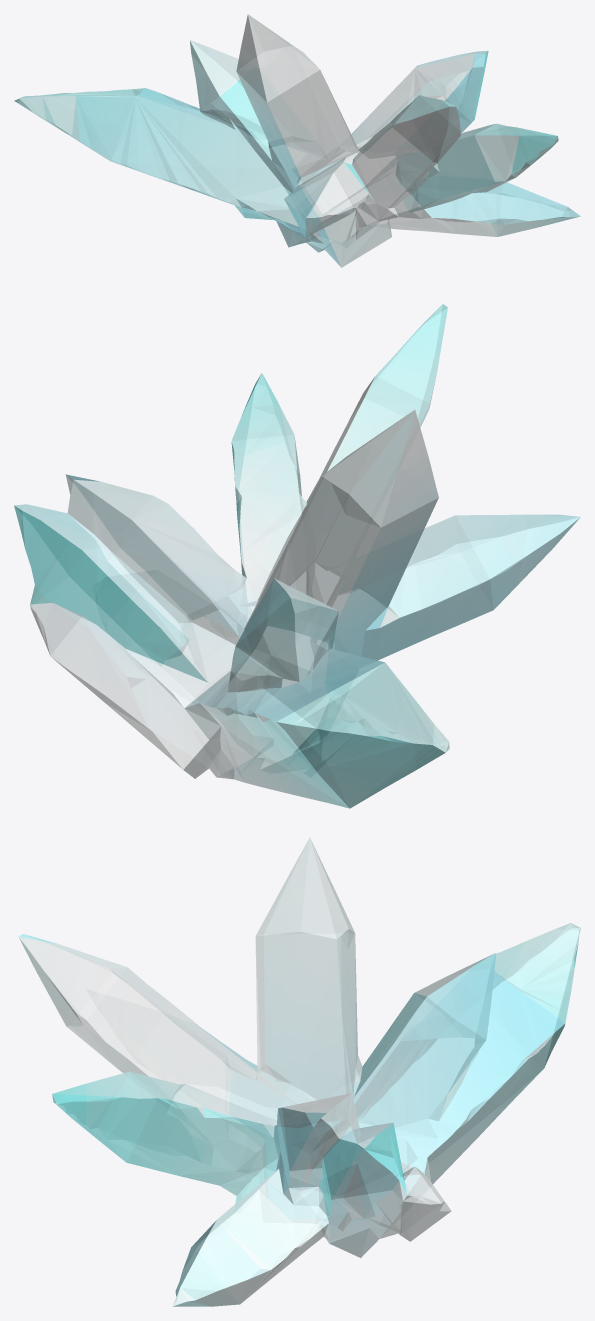
File: VoidDiamond_Crystal2.glb
The picture shows the model from 3 angles, top to bottom: view 1: azimuth 30°, elevation 25°; view 2: azimuth 150°, elevation 25°; view 3: azimuth 270°, elevation 25°; orthographic projection. The views are drawn at different scales.
Visible parts, largest first — view 1: Crystal 2; view 2: Crystal 2; view 3: Crystal 2.
Boxes of the visible parts, <box> form: Crystal 2: <box>14,14,580,267</box>; Crystal 2: <box>14,304,580,808</box>; Crystal 2: <box>18,837,580,1306</box>.
Bounding box in the file's own units: 2.09 × 1.34 × 1.97.
1 material, 1 textured.
